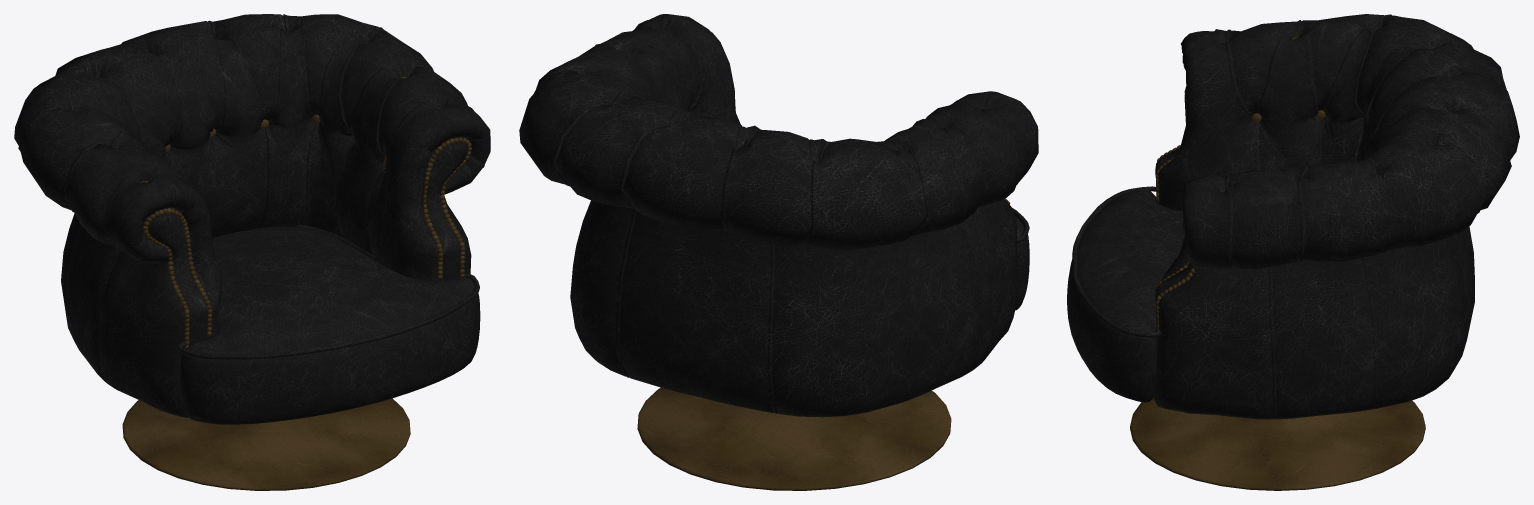
Rendered from Aston.glb.
3 renders of one model, left to right at view 1: azimuth 30°, elevation 25°; view 2: azimuth 150°, elevation 25°; view 3: azimuth 270°, elevation 25°, orthographic. The views are drawn at different scales.
Parts seen in each view (by area): view 1: Aston; view 2: Aston; view 3: Aston.
Boxes of the visible parts, box(x1,y1,x2,y2) form: Aston: box(14, 14, 490, 490); Aston: box(519, 14, 1038, 490); Aston: box(1067, 14, 1519, 490).
Bounding box in the file's own units: 0.8953 × 0.7321 × 0.8763.
2 materials, 2 textured.
